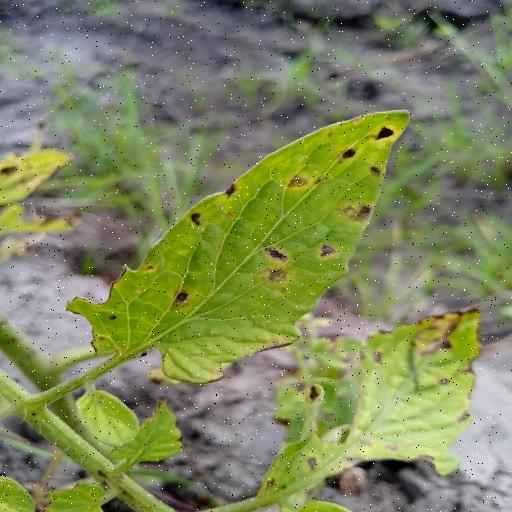Tomato_Brown_Spots: (66, 106, 414, 386), (244, 304, 486, 512)
